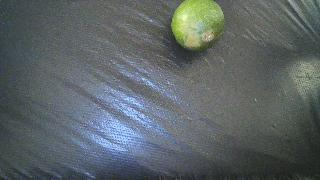DESECHO: (171, 0, 225, 51)
